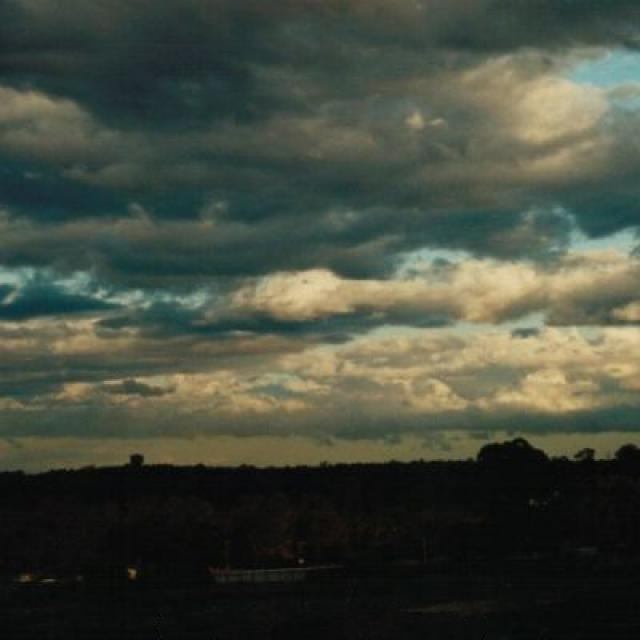St: (1, 11, 640, 395)
